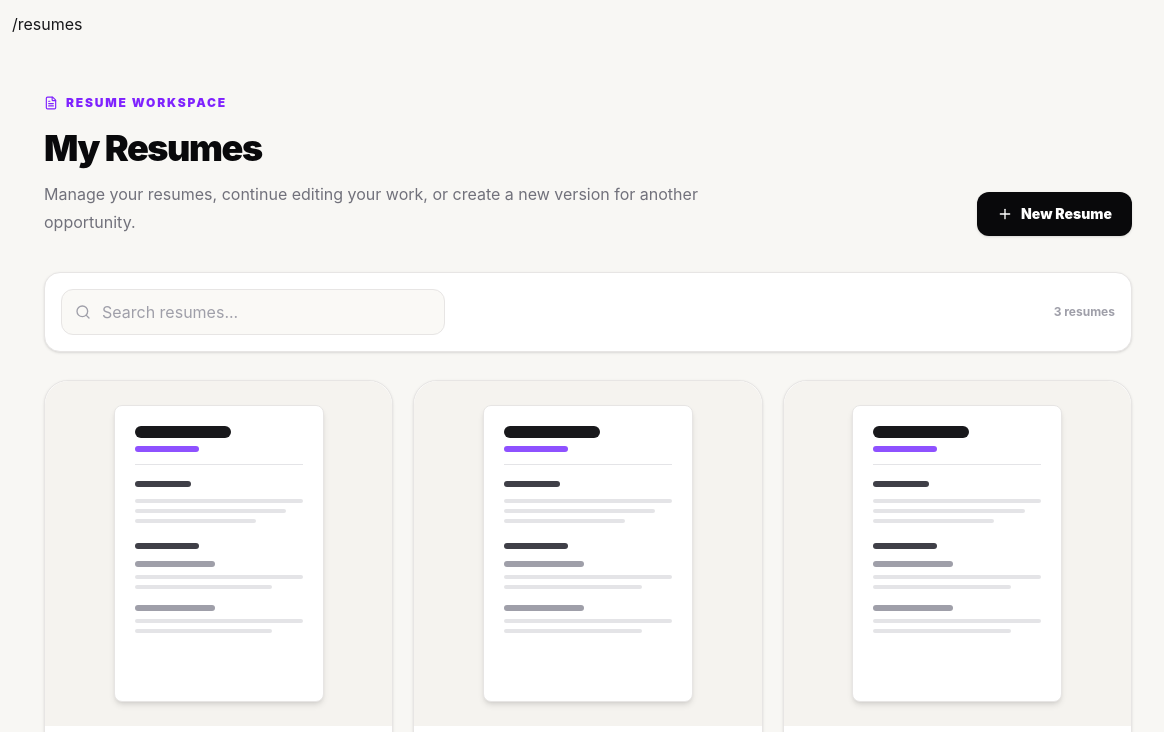
Test: Resumes search › shows the search empty state when no resume matches
Type "DevOps Resume" into the search field with placeholder "Search resumes...". click: (253, 312)
box: [61,289,445,335]
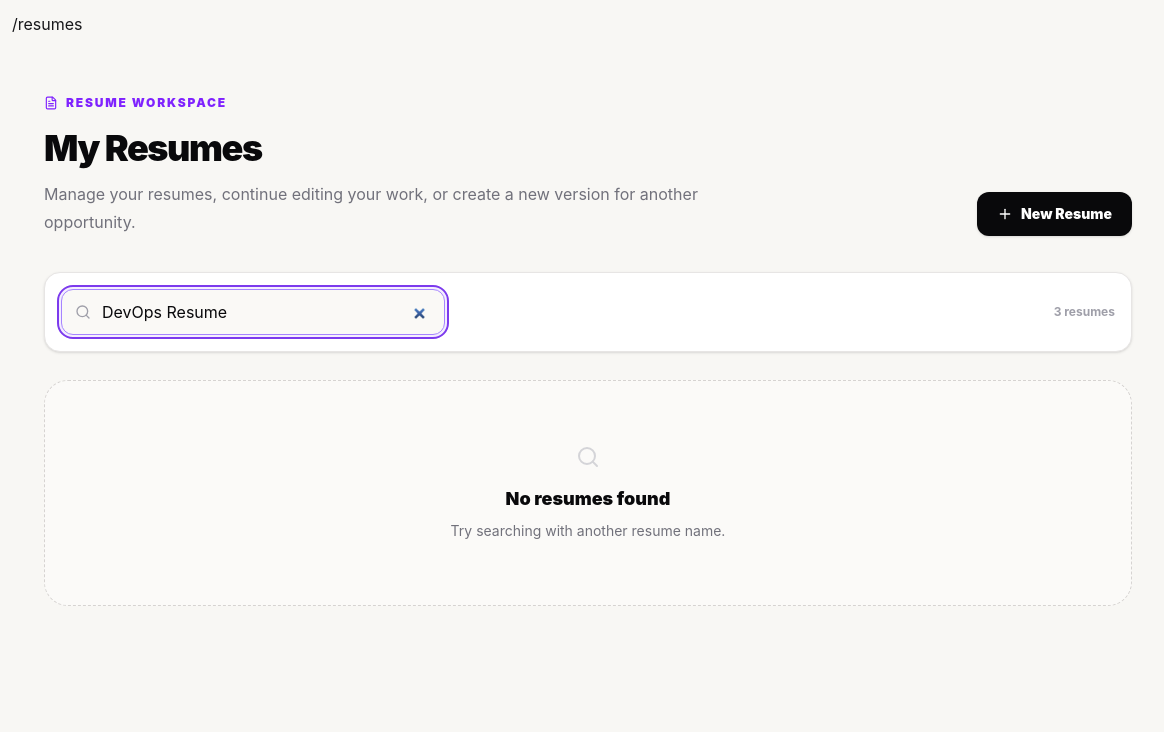
expect the heading "No resumes found" is shown: met, box [506,488,670,509]
expect the text "Try searching with another resume name." is shown: met, box [451,522,725,539]
